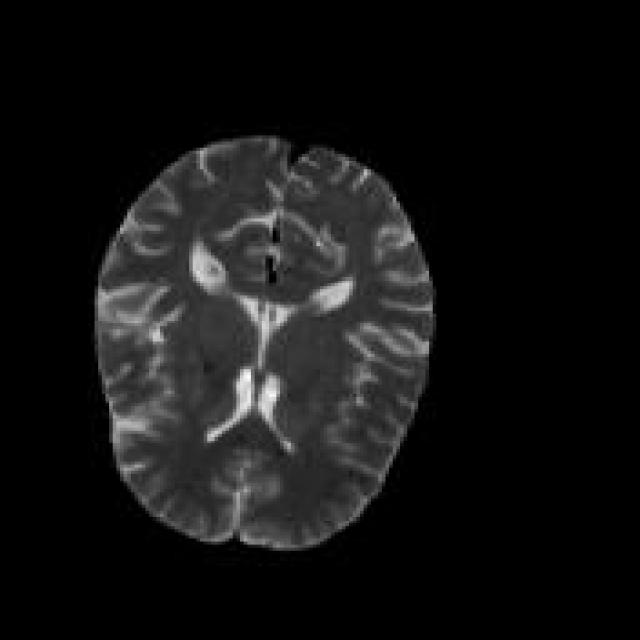parkinson: (91, 132, 436, 551)
